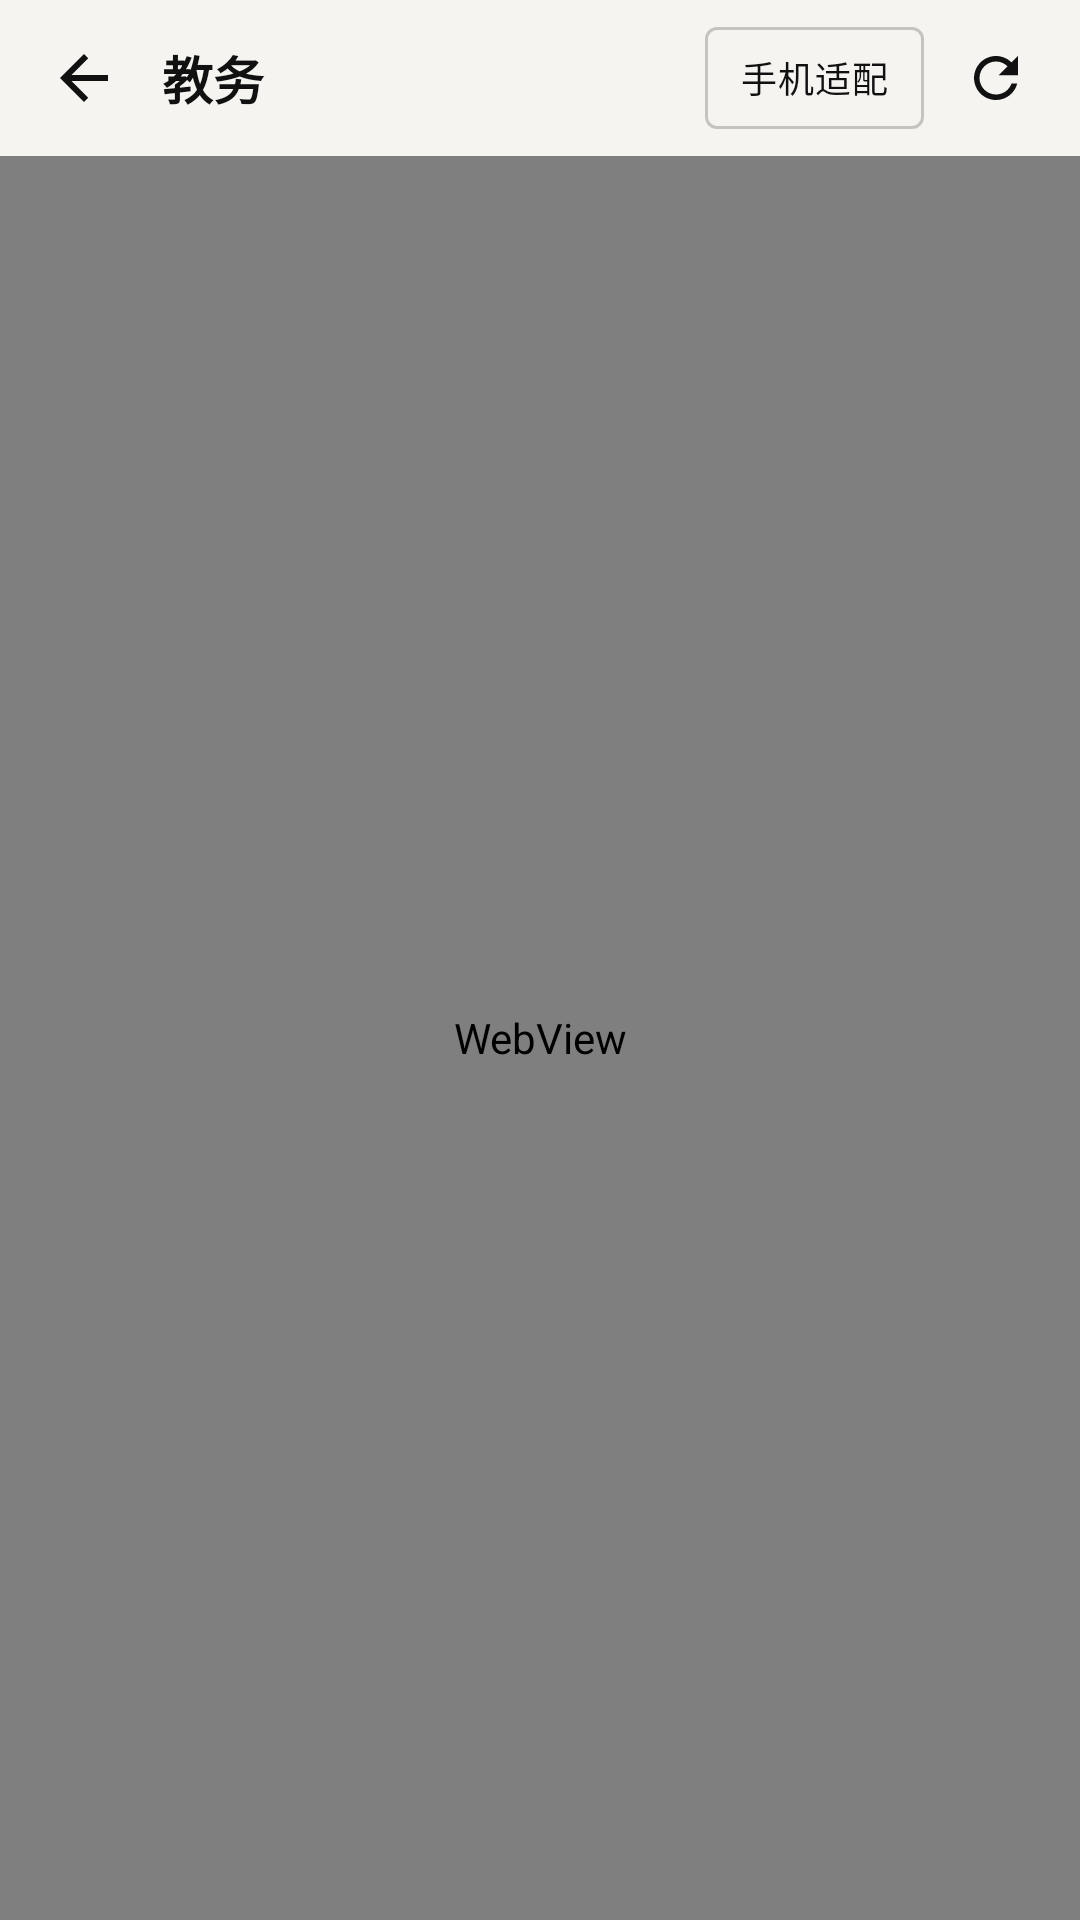

Icons on this 1080 × 1920 Android screen, each with the point to tap as [x,y]:
刷新: [996,78]
返回: [84,78]
